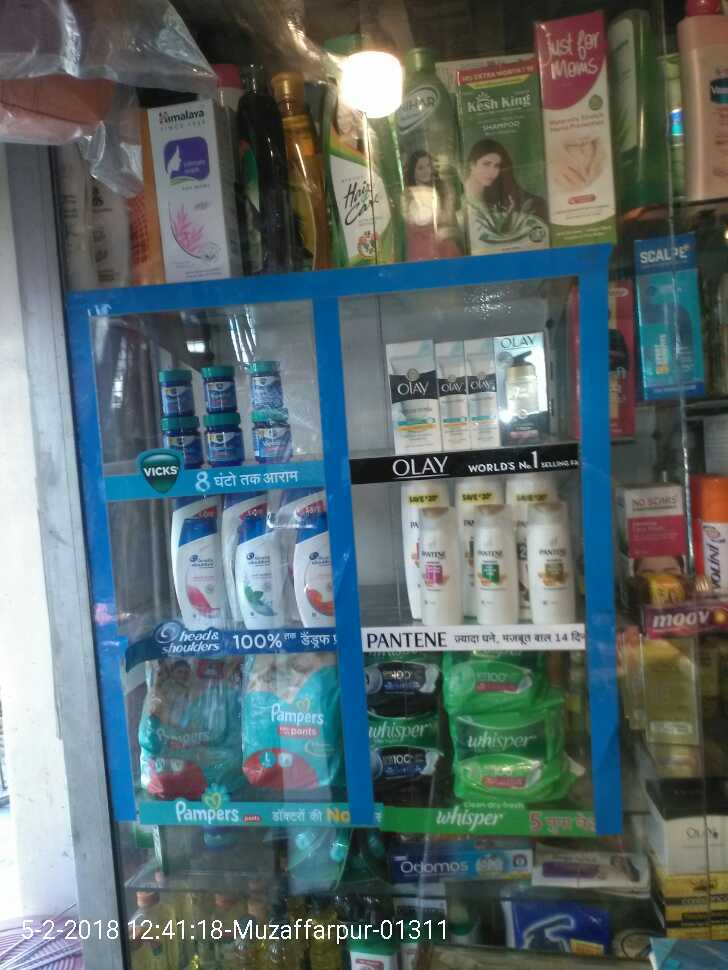vicks: (152, 347, 298, 477)
